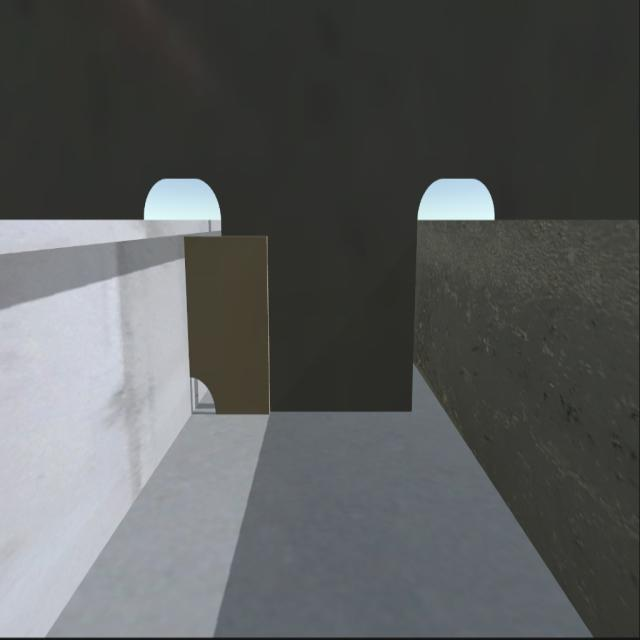fillet_hole: (185, 379, 223, 415)
fillet_yong_jeop_jang: (214, 407, 411, 419)
longi_yong_jeop_jang: (182, 231, 272, 415), (178, 234, 198, 380)
